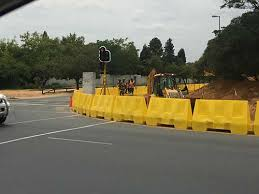barrier: (194, 101, 251, 134), (147, 97, 192, 129), (112, 97, 146, 124), (69, 91, 90, 118), (90, 95, 112, 117)
